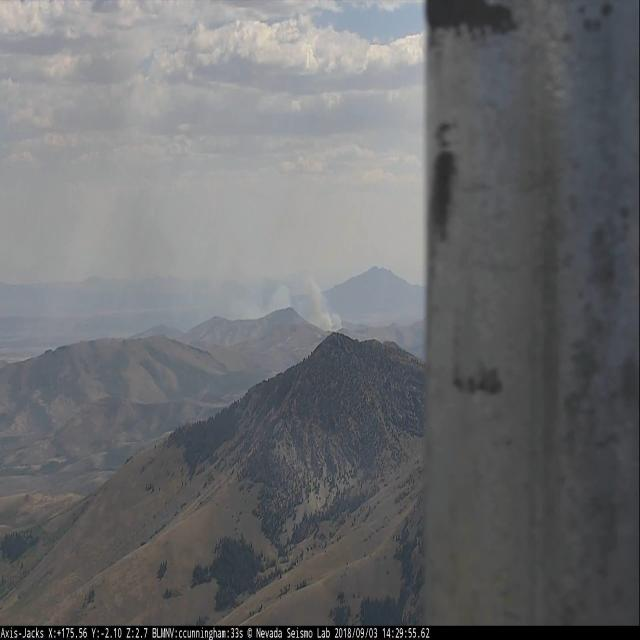smoke: (230, 282, 346, 332)
